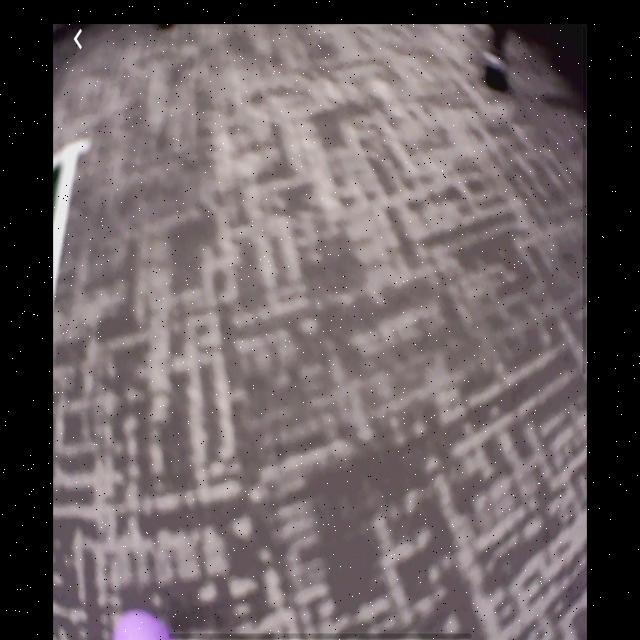ball: (112, 607, 173, 640)
